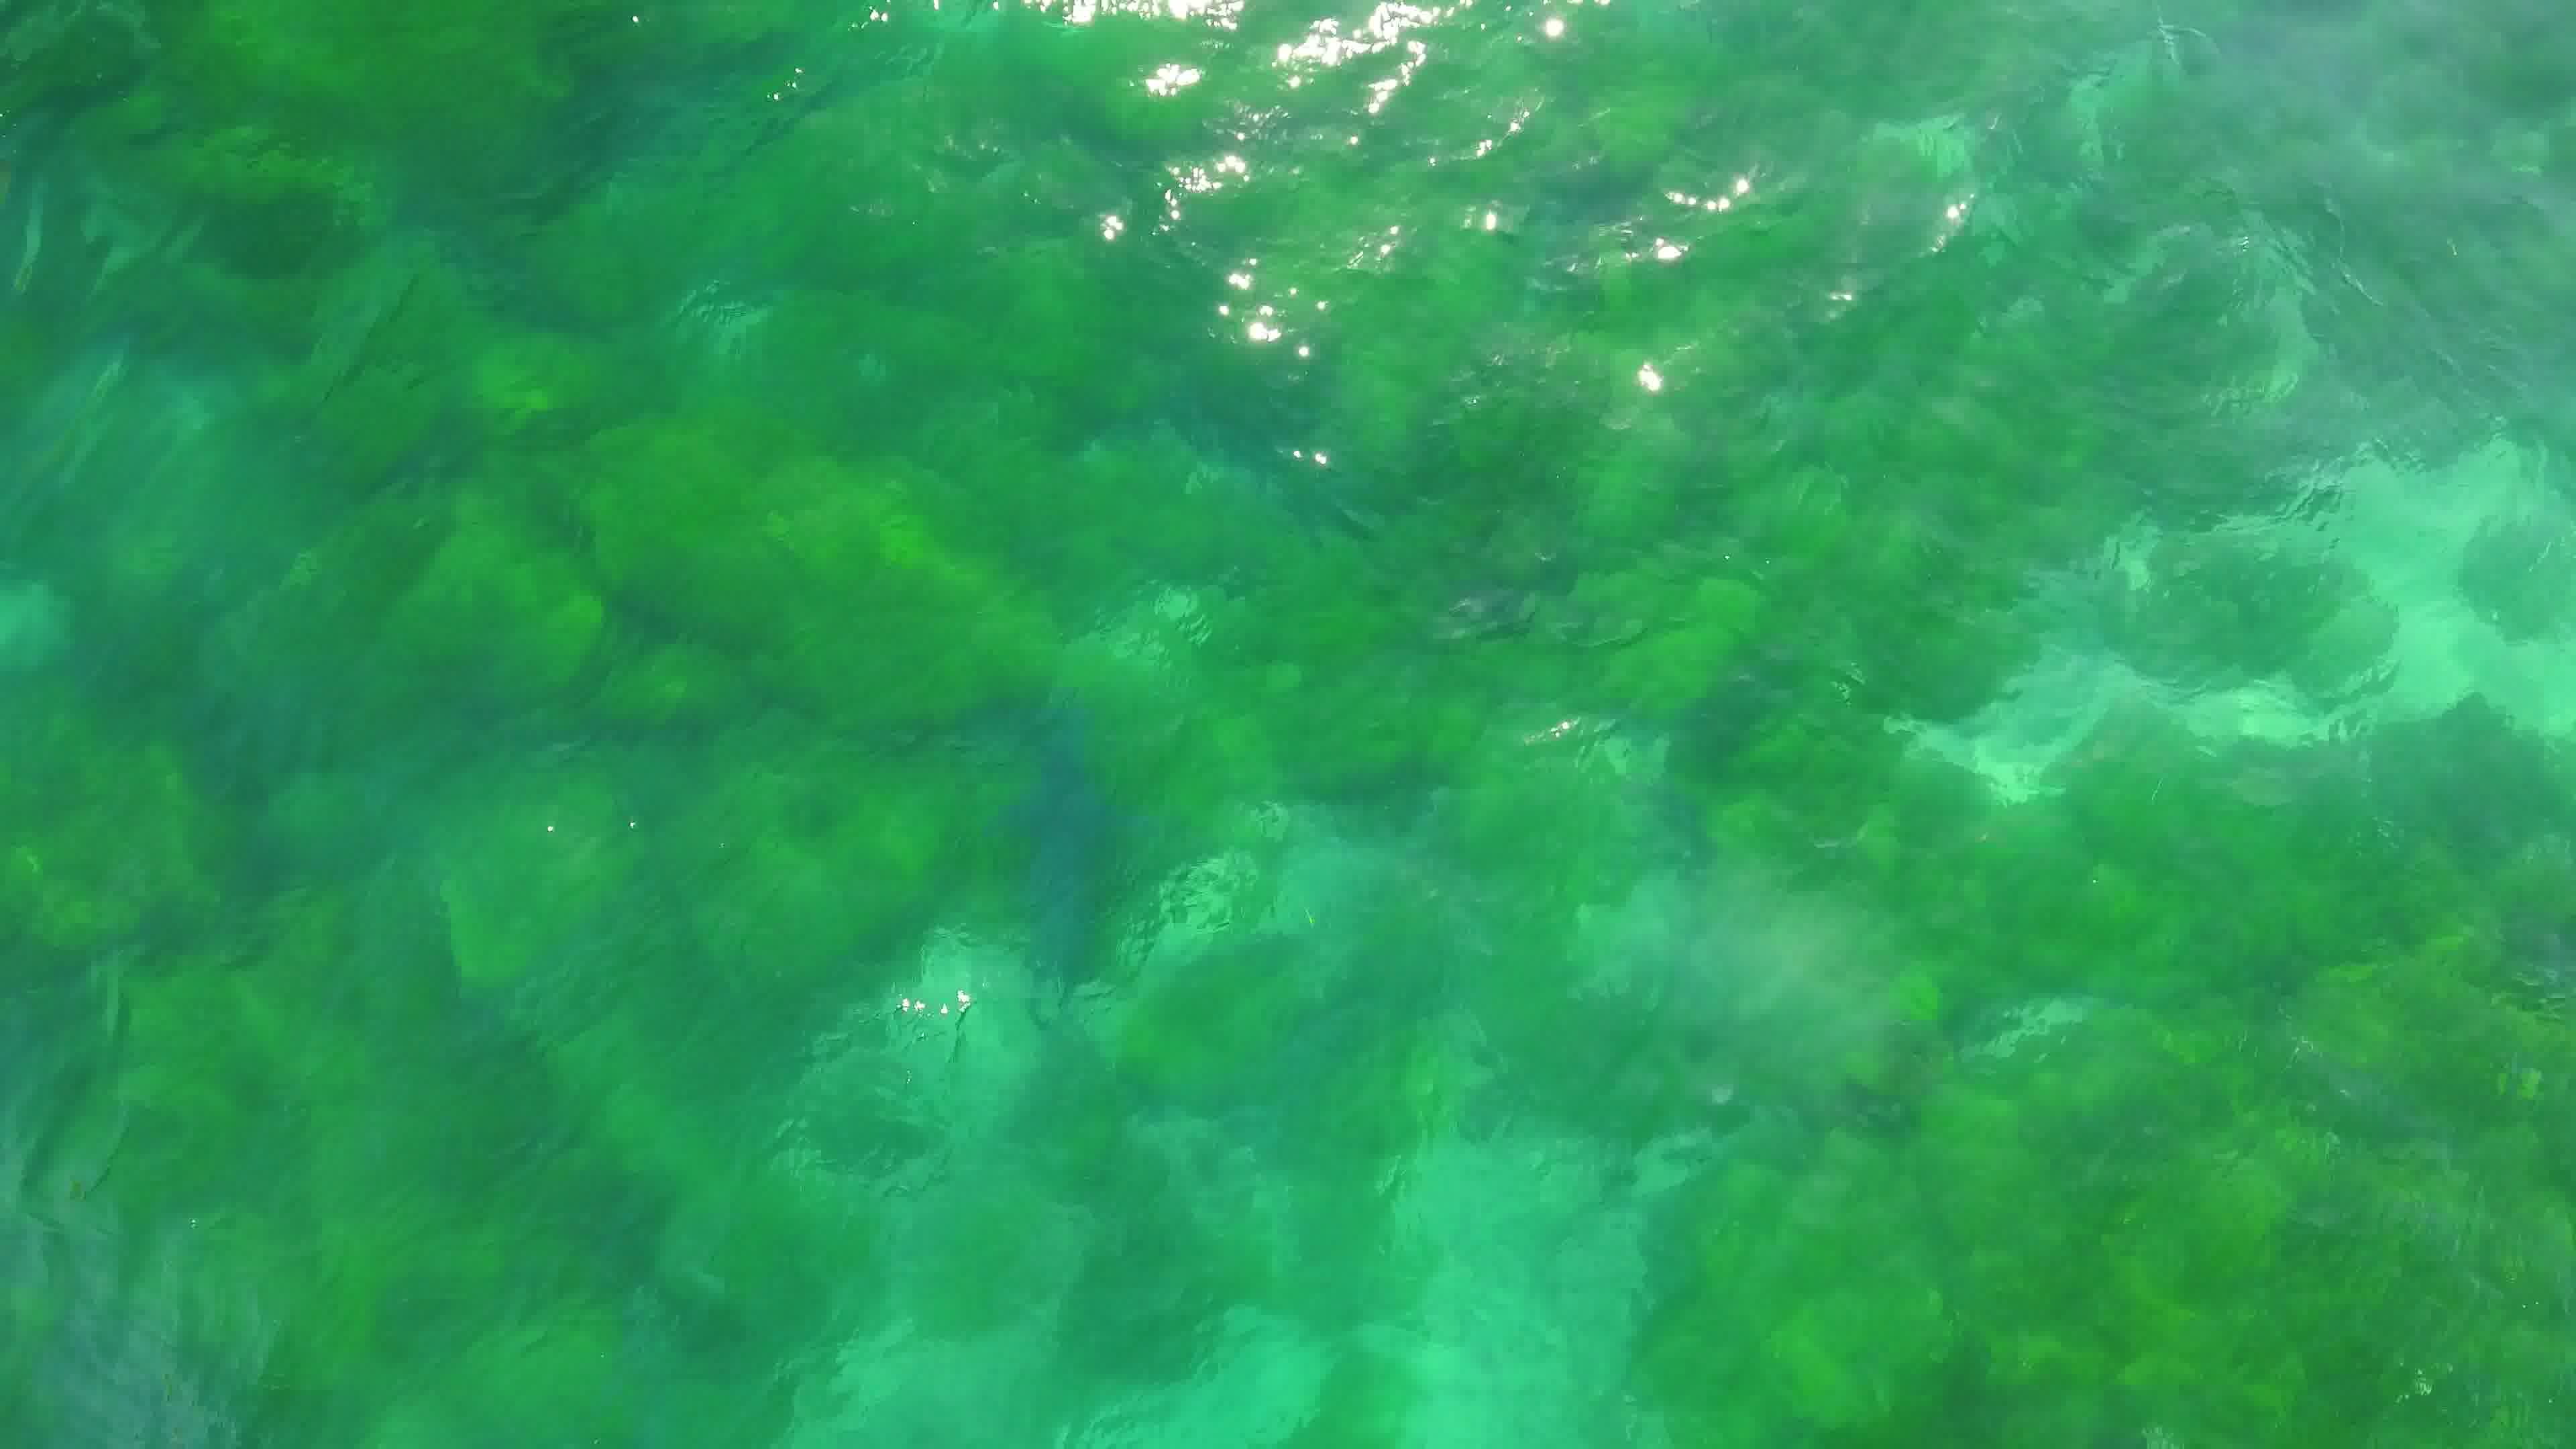shark: (971, 688, 1173, 980)
